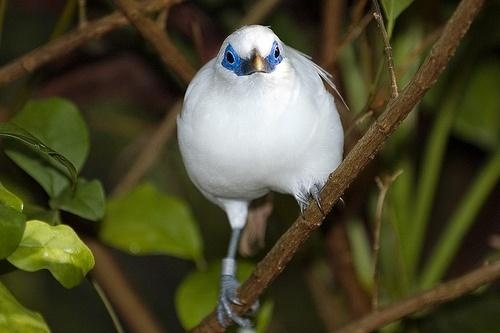bird: (174, 24, 355, 333)
